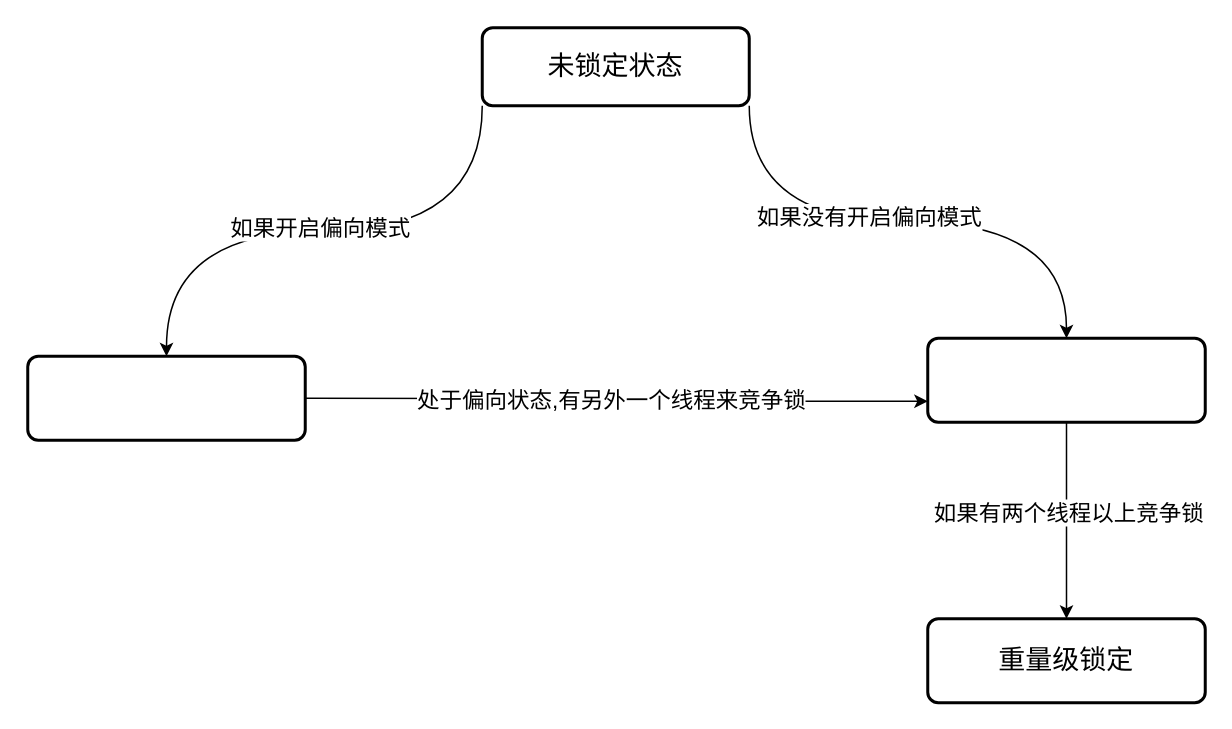
This 1232x729 diagram has some shape labels left out. Each missing label, with the box of its shape:
偏向锁状态: (26, 354, 306, 441)
轻量级锁定: (926, 336, 1206, 423)
